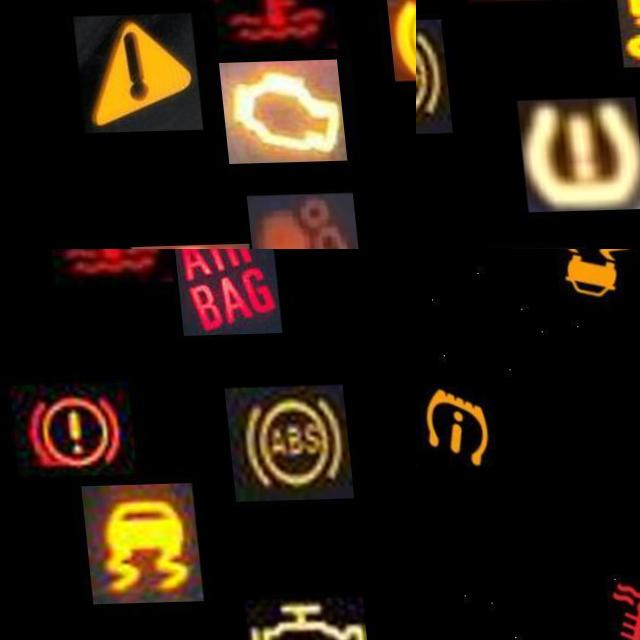Central Warning lamp: (66, 15, 194, 134)
Engine cooling system: (203, 0, 329, 53), (42, 249, 169, 285)
